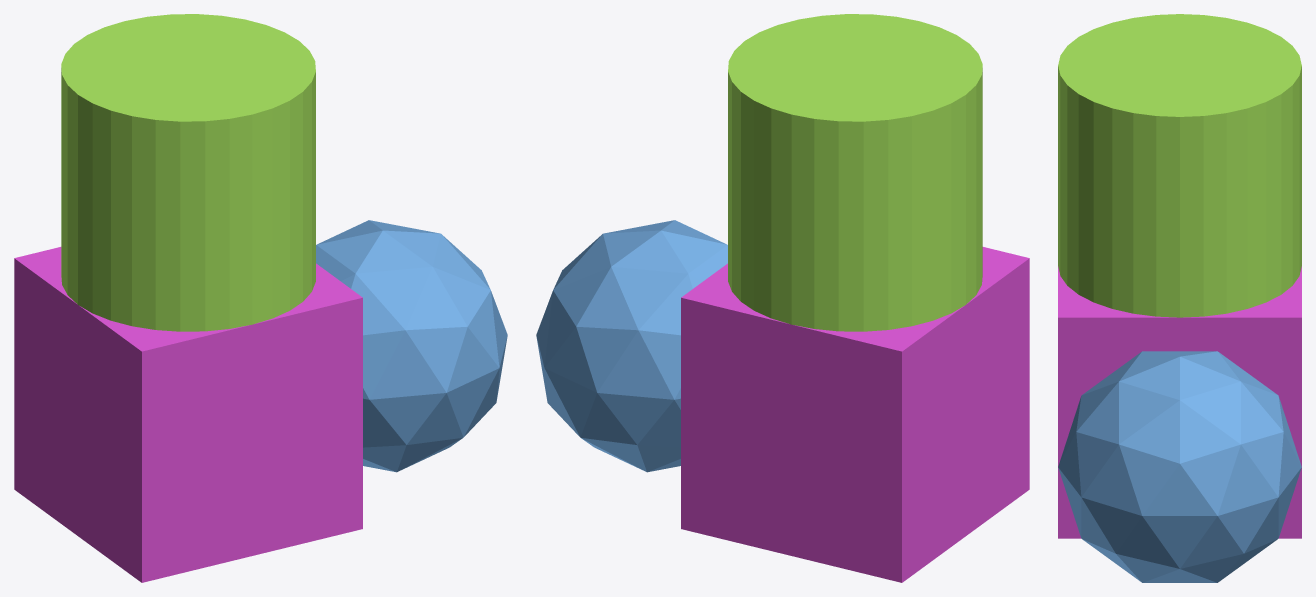
Rendered from smallfoo.glb.
3 renders of one model, left to right at view 1: azimuth 30°, elevation 25°; view 2: azimuth 150°, elevation 25°; view 3: azimuth 270°, elevation 25°, orthographic. The views are drawn at different scales.
Parts seen in each view (by area): view 1: Icosphere; view 2: Icosphere; view 3: Icosphere.
Boxes of the visible parts, <box> form: Icosphere: <box>14,14,507,582</box>; Icosphere: <box>536,14,1029,582</box>; Icosphere: <box>1058,14,1301,582</box>.
Bounding box in the file's own units: 3.71 × 3.82 × 2.
